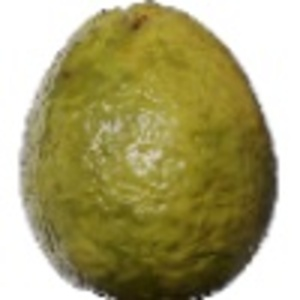goiaba: (13, 5, 282, 298)
